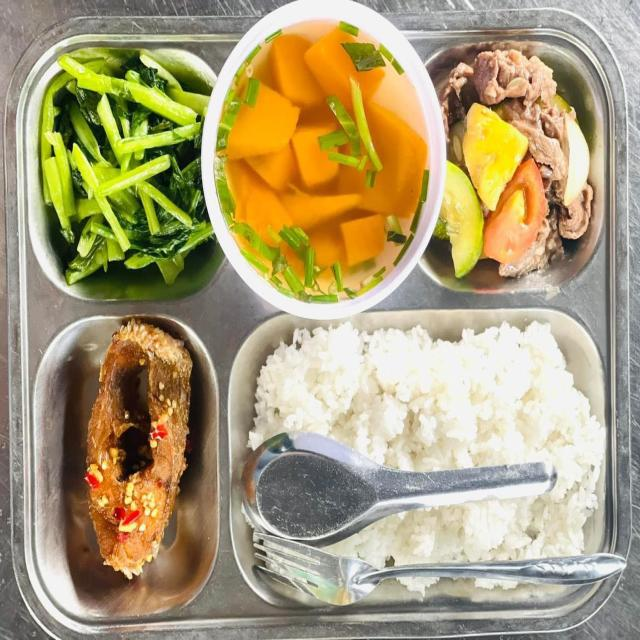bo xao: (434, 45, 594, 277)
ca chien: (85, 319, 192, 580)
canh bi do: (203, 18, 430, 298)
com: (248, 322, 605, 566)
rau: (38, 50, 214, 290)
